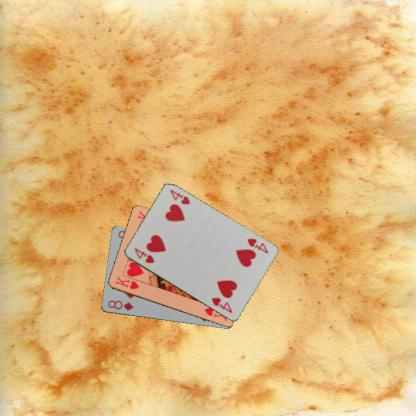4h: (131, 245, 156, 265), (245, 236, 270, 255)
8d: (105, 298, 135, 312)
Kh: (112, 274, 140, 290)
